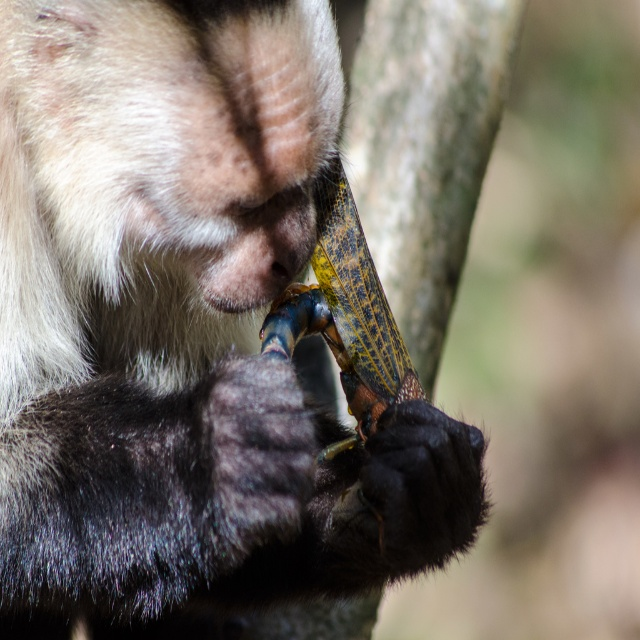Monkey: (0, 0, 497, 639)
